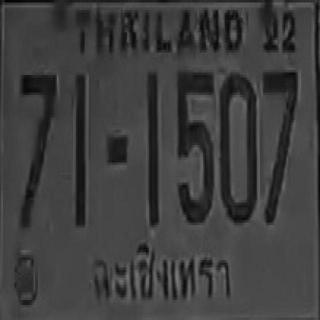N00: (219, 71, 257, 221)
N01: (145, 72, 159, 225), (74, 72, 86, 225)
N05: (176, 70, 214, 222)
N07: (18, 71, 56, 226), (262, 69, 296, 224), (262, 69, 296, 189)
P07: (86, 238, 239, 310)
